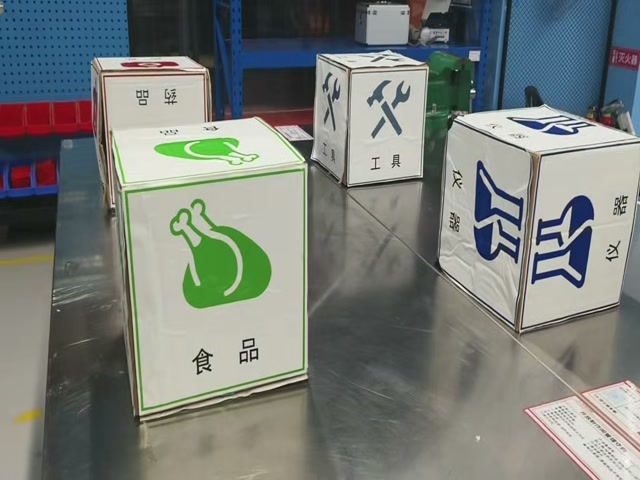Cube_food: (103, 116, 303, 190)
Cube_ins: (454, 106, 637, 158)
Cube_medicine: (92, 57, 209, 79)
Cube_tool: (319, 51, 426, 75)
